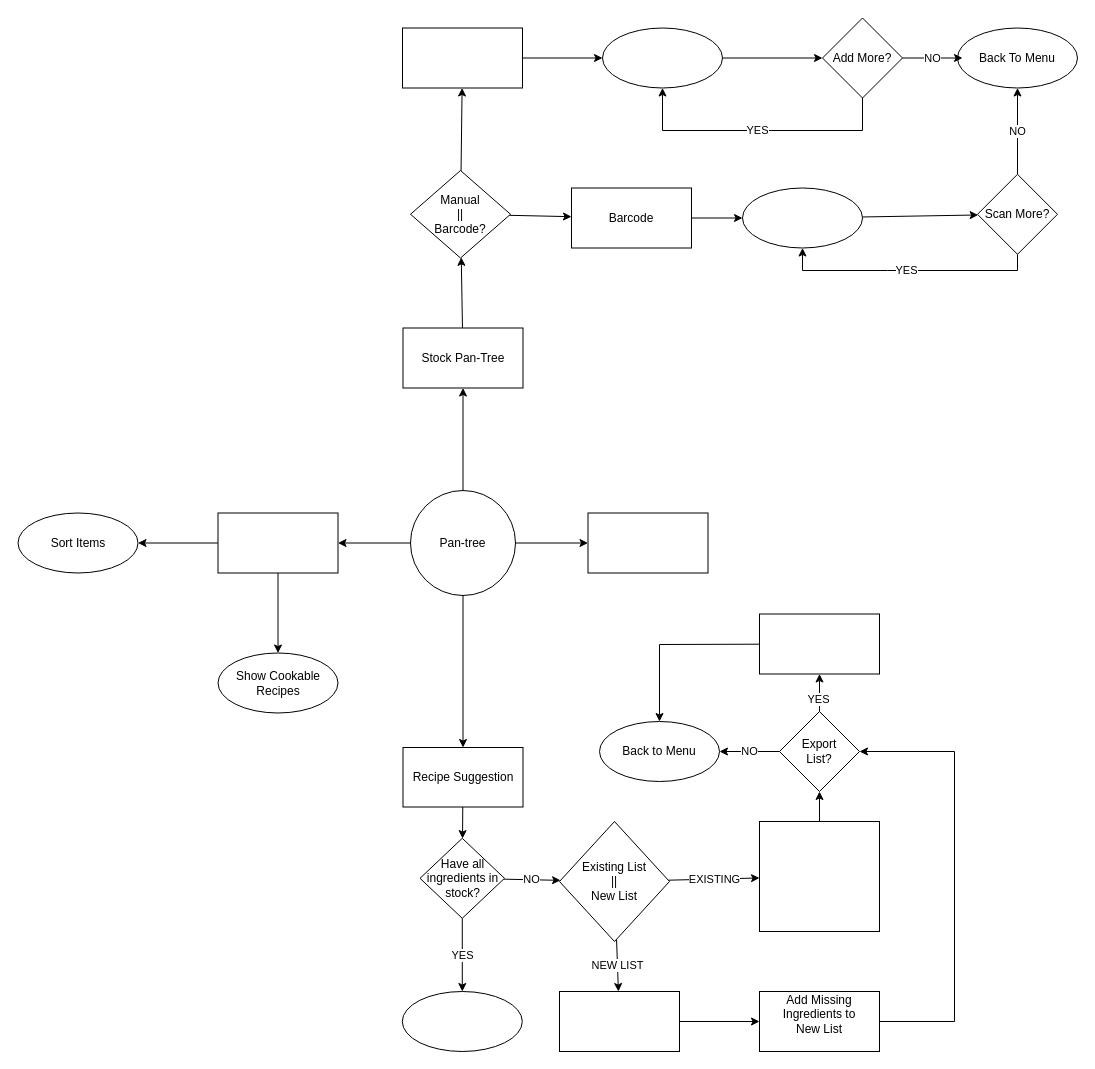
Some shapes in this 1095 by 1069 pixel diagram are drawn without their labels. The shapes that lost their labels are listed below. From the top down, each one's centre as x and y in pixels, then its label:
point 462,57: Manual
point 662,57: Enter Item Info
point 802,217: Scan Item Barcode
point 277,542: Check Pan-tree
point 819,643: Export List
point 819,876: Add needed ingredients to Grocery List
point 461,1021: Show Recipe
point 619,1021: Create New List
